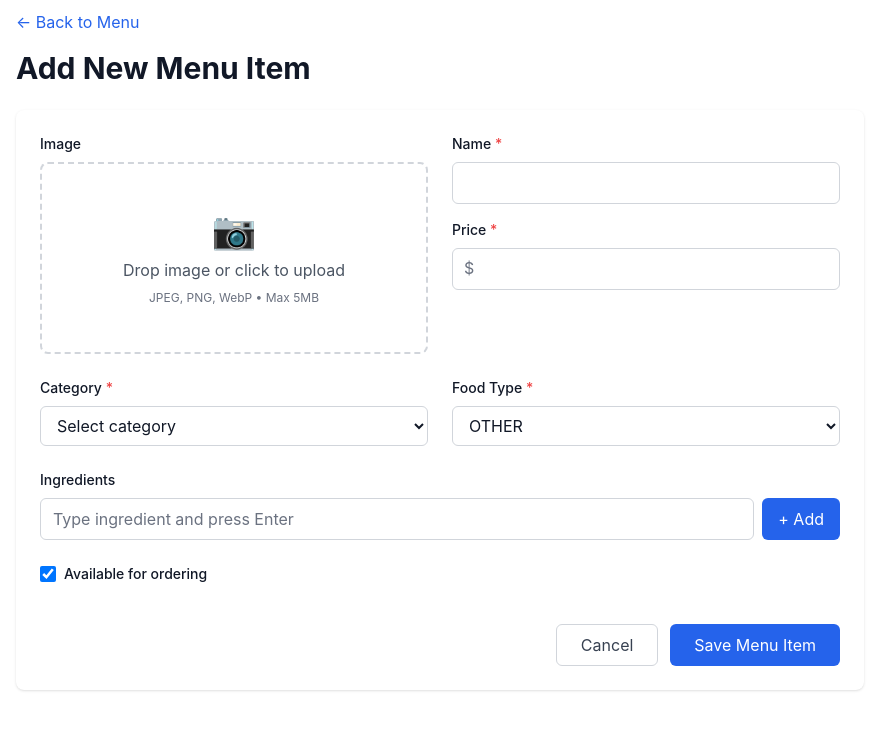
MenuItemForm › displays validation errors when submitting empty form
Step 1. Click the button "Save Menu Item" → x=755, y=645, box [670,624,840,666]
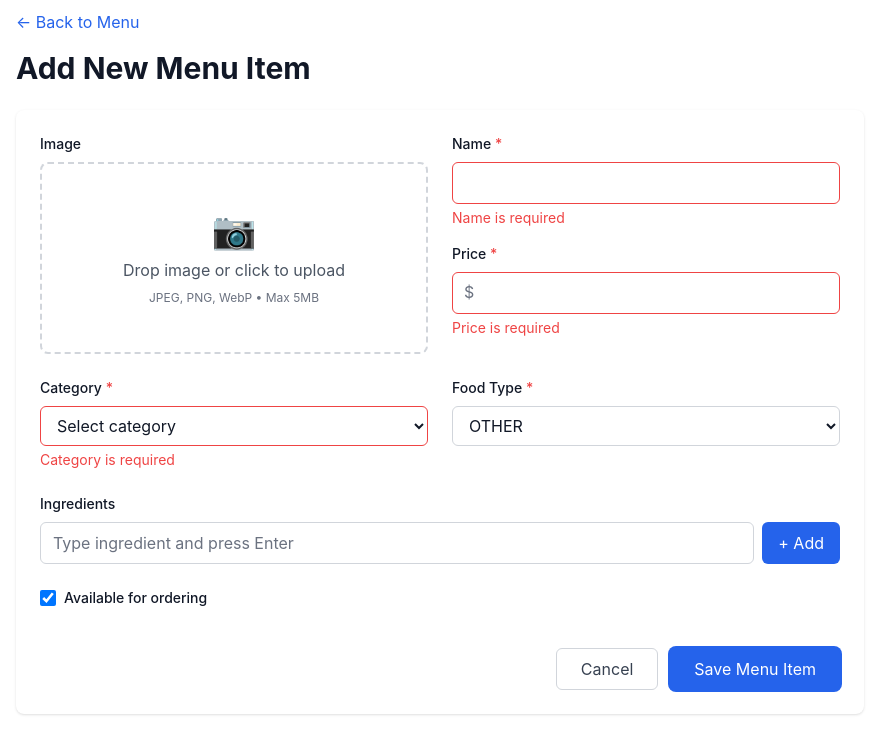
Now the text "Name is required" is shown, box [452,209,565,226]
Now the text "Price is required" is shown, box [452,319,560,336]
